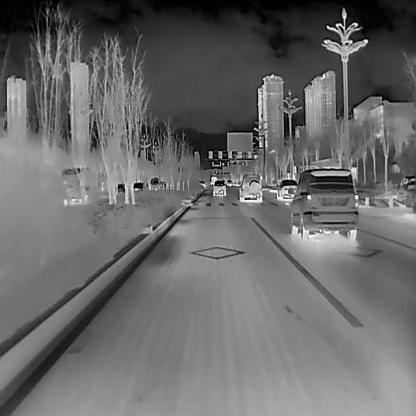car: (290, 167, 357, 240), (238, 172, 262, 202), (396, 175, 415, 207), (275, 178, 297, 199), (211, 180, 226, 196), (131, 181, 149, 192), (150, 176, 159, 190), (115, 184, 125, 192)
truck: (60, 166, 89, 204)
